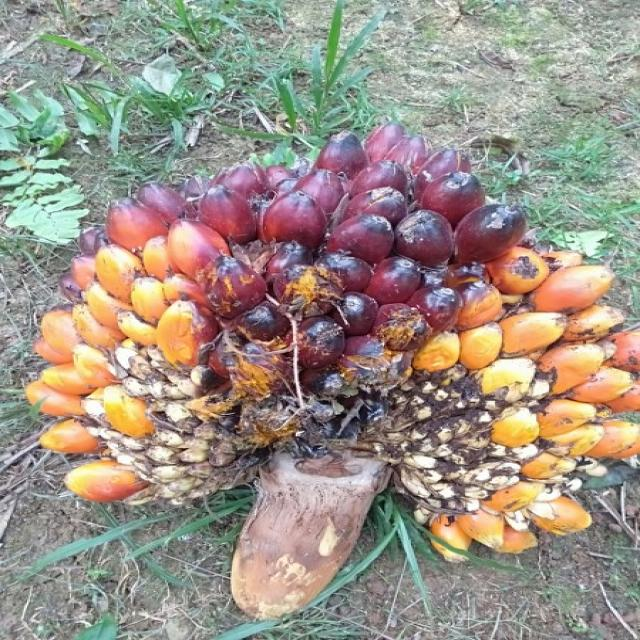fraksi 3: (14, 80, 640, 612)
